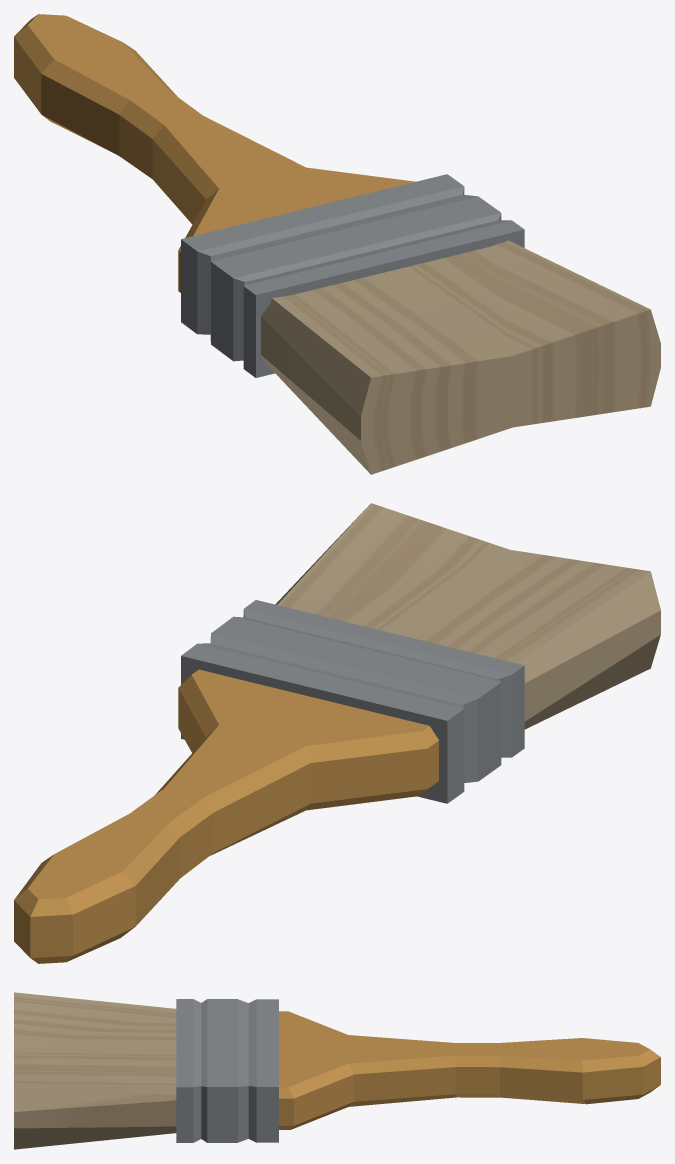
Rendered from SM_Item_Paint_Brush_02.obj.
The picture shows the model from 3 angles, top to bottom: view 1: azimuth 30°, elevation 25°; view 2: azimuth 150°, elevation 25°; view 3: azimuth 270°, elevation 25°; orthographic projection. The views are drawn at different scales.
Visible parts, largest first — view 1: SM_Item_Paint_Brush_02_0; view 2: SM_Item_Paint_Brush_02_0; view 3: SM_Item_Paint_Brush_02_0.
Boxes of the visible parts, box(x1,y1,x2,y2) form: SM_Item_Paint_Brush_02_0: box(14, 14, 660, 474); SM_Item_Paint_Brush_02_0: box(14, 503, 660, 963); SM_Item_Paint_Brush_02_0: box(14, 992, 660, 1149).
Bounding box in the file's own units: 0.1599 × 0.0495 × 0.4437.
Materials: 1 (1 with a texture image).
